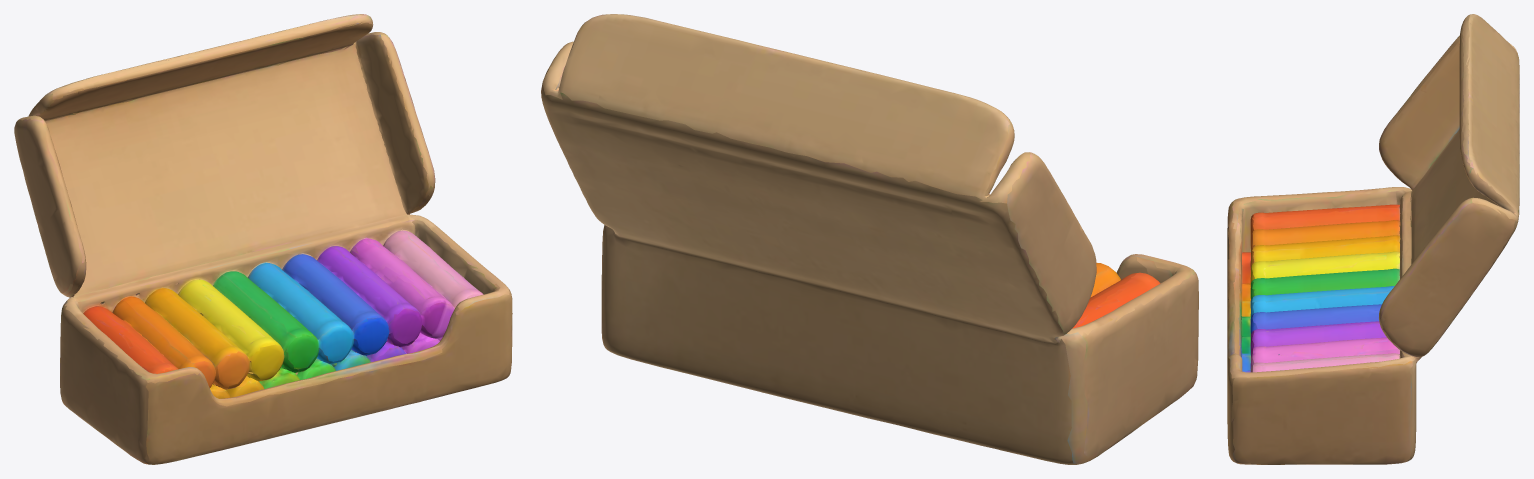
The model's file is crayons.glb.
3 views of the same model, side by side, from view 1: azimuth 30°, elevation 25°; view 2: azimuth 150°, elevation 25°; view 3: azimuth 270°, elevation 25° (orthographic). The views are drawn at different scales.
Visible parts, largest first — view 1: geometry_0; view 2: geometry_0; view 3: geometry_0.
Boxes of the visible parts, <box> form: geometry_0: <box>14,14,512,464</box>; geometry_0: <box>541,14,1198,464</box>; geometry_0: <box>1227,14,1519,464</box>.
Size of the model in its own units: 0.28 by 0.2104 by 0.1894.
Materials: 1 (1 with a texture image).
